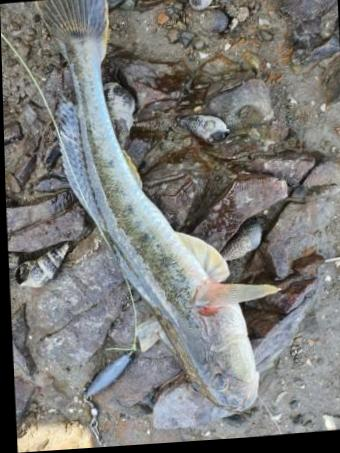fish: (39, 0, 276, 415)
